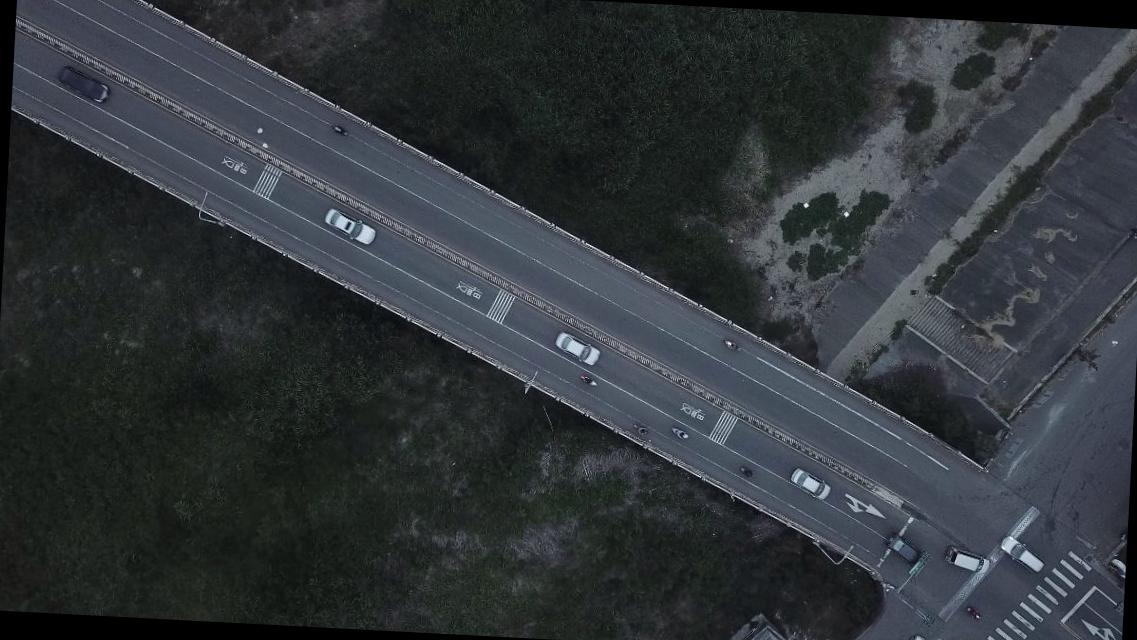vehicle: (322, 207, 376, 248), (57, 66, 110, 105), (552, 330, 602, 368), (998, 534, 1046, 573), (790, 467, 831, 501), (944, 545, 990, 575), (885, 533, 924, 566), (892, 634, 931, 639)
